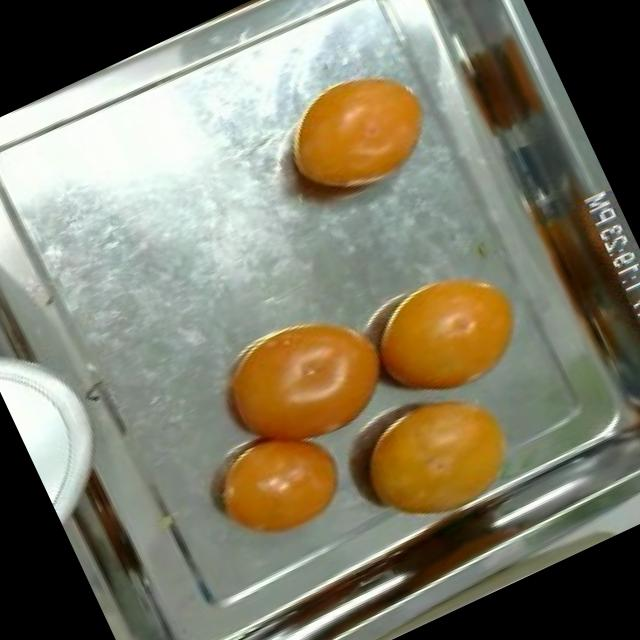Fruit: (180, 282, 420, 488), (345, 244, 549, 426), (337, 367, 539, 545), (262, 46, 458, 226), (186, 397, 372, 569), (431, 9, 572, 158)
